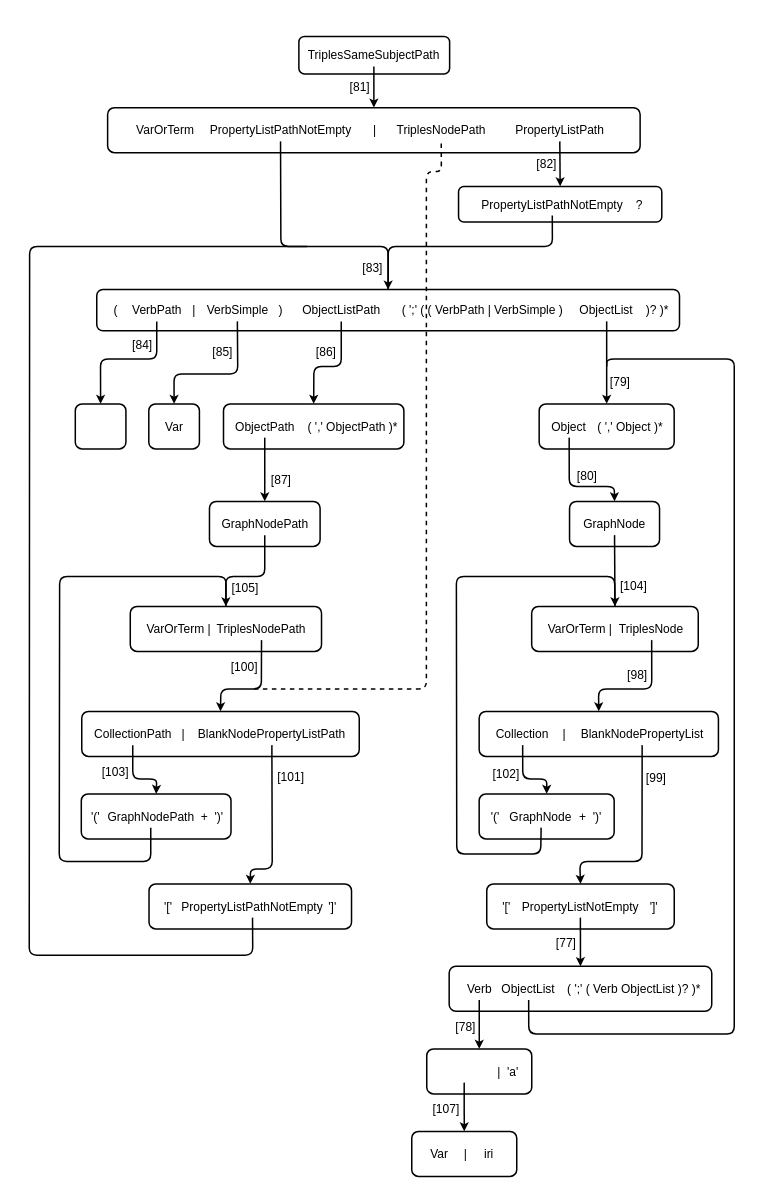
This 769x1204 diagram has some shape labels left out. The centre of each missing label's shape, as x and y in pixels:
"Path" goes at point 100,426.
"VarOrIri" goes at point 479,1071.
